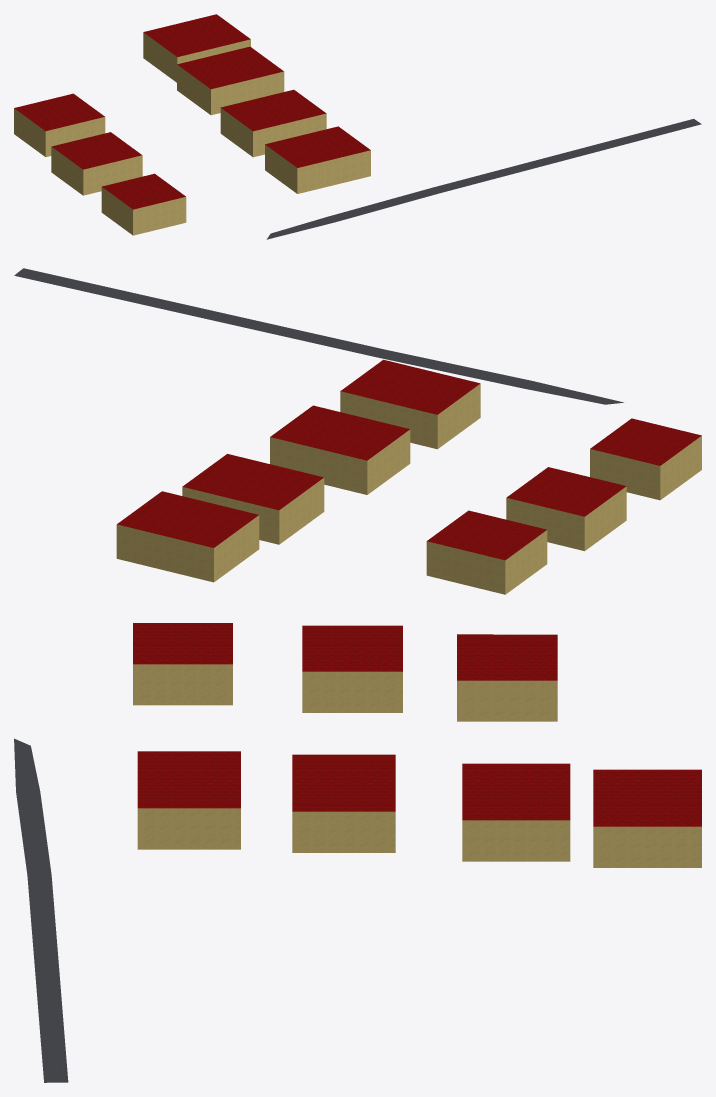
File: district_-3_2.glb
The picture shows the model from 3 angles, top to bottom: view 1: azimuth 30°, elevation 25°; view 2: azimuth 150°, elevation 25°; view 3: azimuth 270°, elevation 25°; orthographic projection. The views are drawn at different scales.
Parts seen in each view (by area): view 1: Building w44036133, Building w44036174, Building w44036150, Building w44036153, Building w44036187, Building w44036132, Building w44036173, Road w40942433; view 2: Building w44036187, Building w44036150, Building w44036133, Building w44036173, Building w44036174, Building w44036153, Building w44036132, Road w40942433; view 3: Building w44036187, Building w44036174, Building w44036150, Building w44036133, Building w44036173, Building w44036153, Road w40942433, Building w44036132.
Boxes of the visible parts, x1,y1,x2,y2 form: Building w44036133: (265, 126, 370, 193); Building w44036174: (177, 46, 284, 115); Building w44036150: (220, 89, 326, 157); Building w44036153: (51, 132, 142, 195); Building w44036187: (143, 14, 250, 82); Building w44036132: (101, 173, 186, 235); Building w44036173: (14, 93, 105, 156); Road w40942433: (266, 119, 701, 239); Building w44036187: (116, 491, 259, 582); Building w44036150: (270, 405, 410, 494); Building w44036133: (340, 359, 480, 449); Building w44036173: (426, 510, 547, 594); Building w44036174: (182, 454, 324, 544); Building w44036153: (506, 467, 626, 551); Building w44036132: (590, 418, 701, 500); Road w40942433: (14, 268, 623, 404); Building w44036187: (593, 769, 701, 867); Building w44036174: (462, 763, 570, 861); Building w44036150: (292, 754, 395, 852); Building w44036133: (137, 751, 240, 849); Building w44036173: (457, 634, 557, 721); Building w44036153: (302, 625, 402, 712); Road w40942433: (14, 738, 68, 1082); Building w44036132: (133, 623, 232, 705).
Bounding box in the file's own units: 163 × 7.5 × 113.
Materials: 3 (3 with a texture image).
